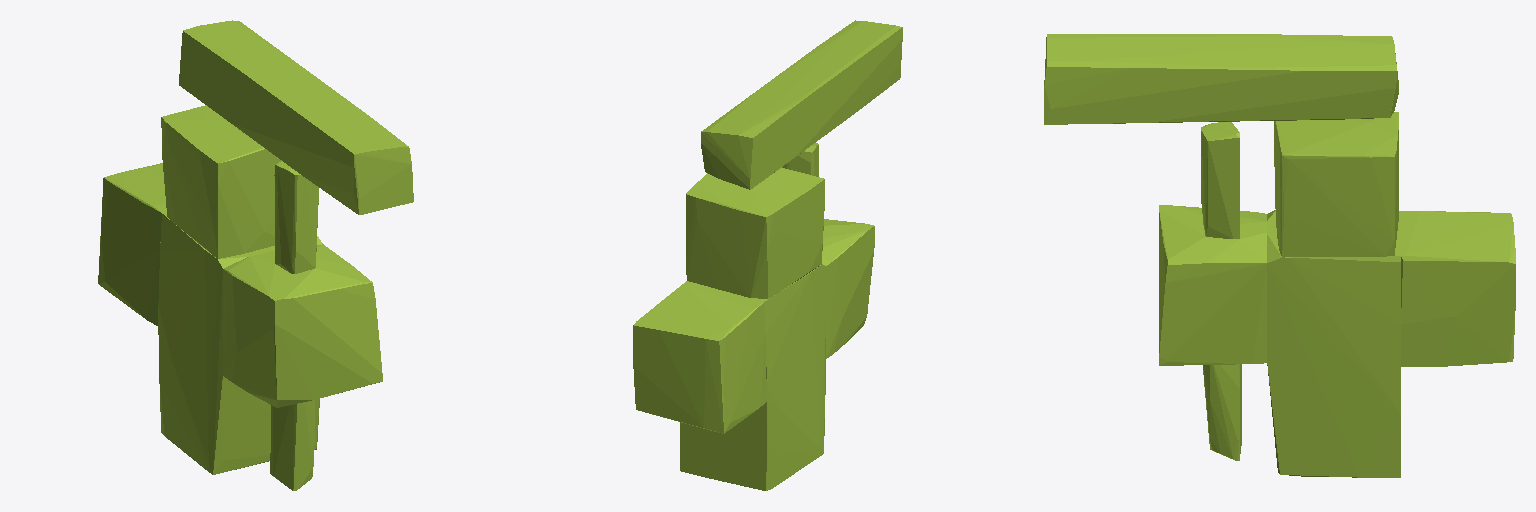
URDF robot description (blob668):
<robot name="blob668">
  <link name="random_obj_668">
    <contact>
      <lateral_friction value="1.0"/>
      <rolling_friction value="0.0"/>
      <inertia_scaling value="3.0"/>
      <contact_cfm value="0.0"/>
      <contact_erp value="1.0"/>
    </contact>
    <inertial>
      <origin rpy="0 0 0" xyz="0 0 0"/>
      <mass value="0.1"/>
      <inertia ixx="1" ixy="0" ixz="0" iyy="1" iyz="0" izz="0"/>
    </inertial>
    <visual>
      <origin rpy="0 0 0" xyz="0 0 0"/>
      <geometry>
        <mesh filename="668.obj" scale="0.015 0.015 0.015"/>
      </geometry>
      <material name="blockmat">
        <color rgba="0.66 0.79 0.31 1"/>
      </material>
    </visual>
    <collision>
      <origin rpy="0 0 0" xyz="0 0 0"/>
      <geometry>
        <mesh filename="668.obj" scale="0.015 0.015 0.015"/>
      </geometry>
    </collision>
  </link>
</robot>

--- What the picture shows (computed from the rendered views, not written in the file) ---
The picture shows the robot from 3 angles, left to right: view 1: azimuth 30°, elevation 25°; view 2: azimuth 150°, elevation 25°; view 3: azimuth 270°, elevation 25°; orthographic projection.
Robot: blob668 — 1 links, 0 joints (none); root link random_obj_668; default pose: every joint at zero.
Links seen in each view (by area): view 1: random_obj_668; view 2: random_obj_668; view 3: random_obj_668.
Link boxes in pixels (<box>): random_obj_668: <box>98,20,413,490</box>; random_obj_668: <box>633,20,902,490</box>; random_obj_668: <box>1044,34,1515,477</box>.
Bounding box of the posed robot: 0.0331 × 0.1226 × 0.116 m (x, y, z).
Meshes: 1 distinct files referenced, 1 mesh visuals loaded (1 OBJ).